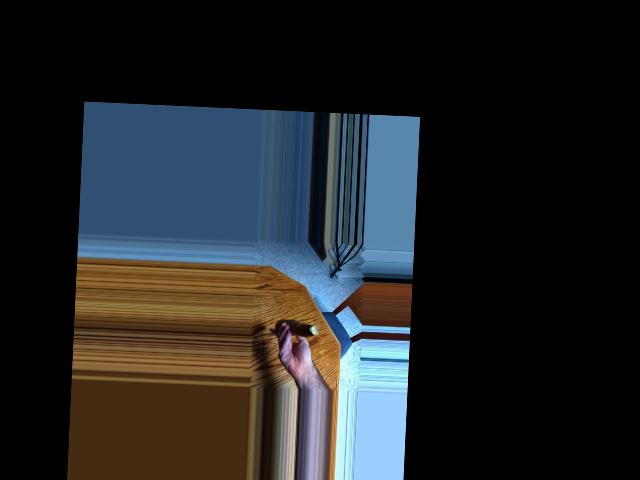sweet_potato: (280, 317, 317, 342)
